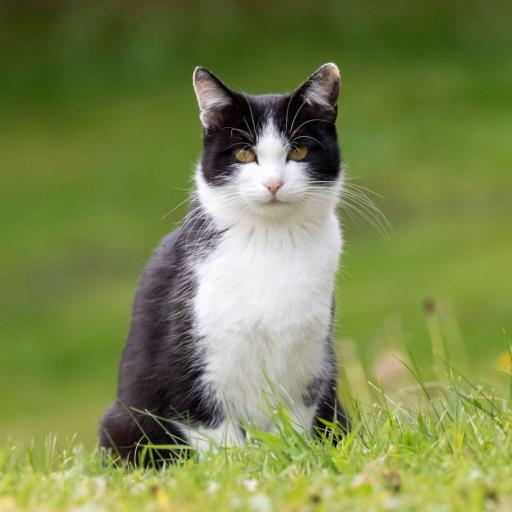cat_sitting: (100, 63, 346, 463)
